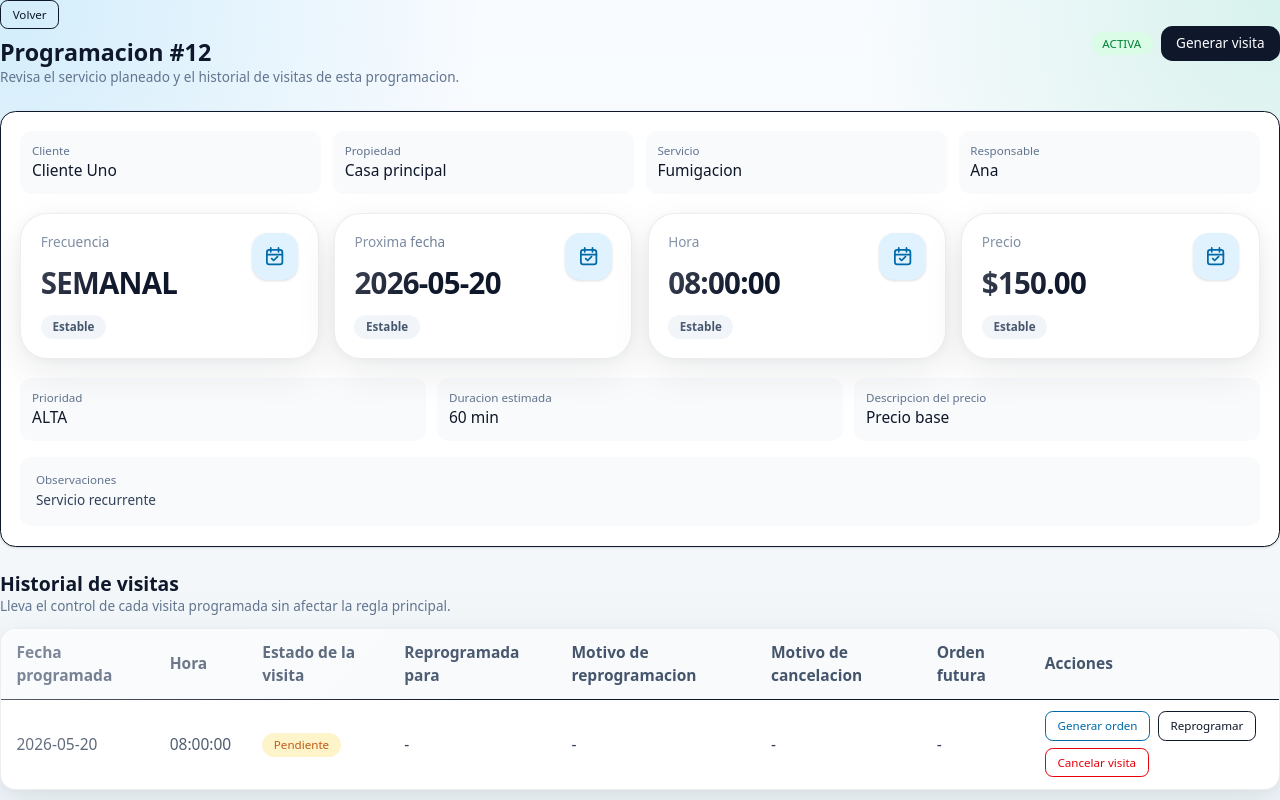
Test: ProgramacionDetallePage › muestra validación si se intenta cancelar sin motivo
Expected: the text "Cliente Uno" is shown, [32,159,117,181]
Click the button "Cancelar visita" at [1097, 763], box [1045,748,1149,777]
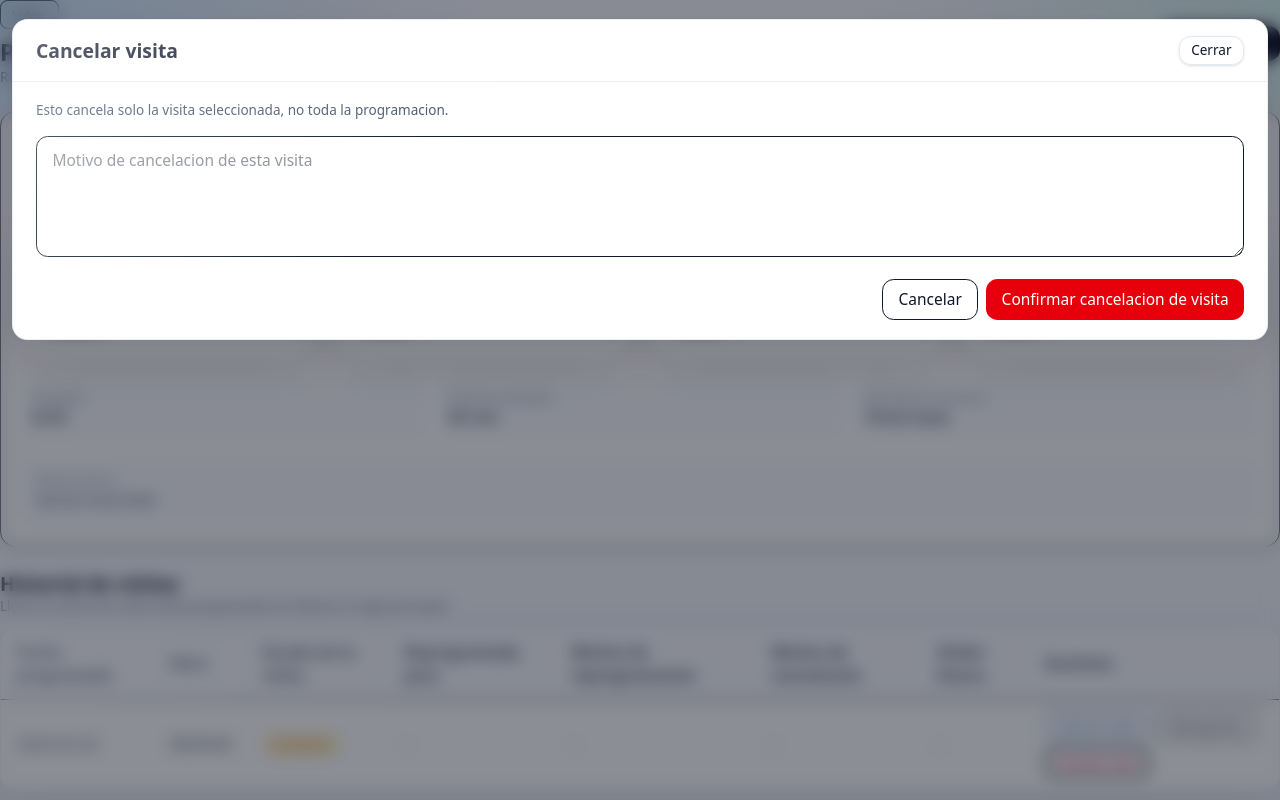
Click the button "Confirmar cancelacion de visita" at [1115, 299], box [986,279,1244,320]
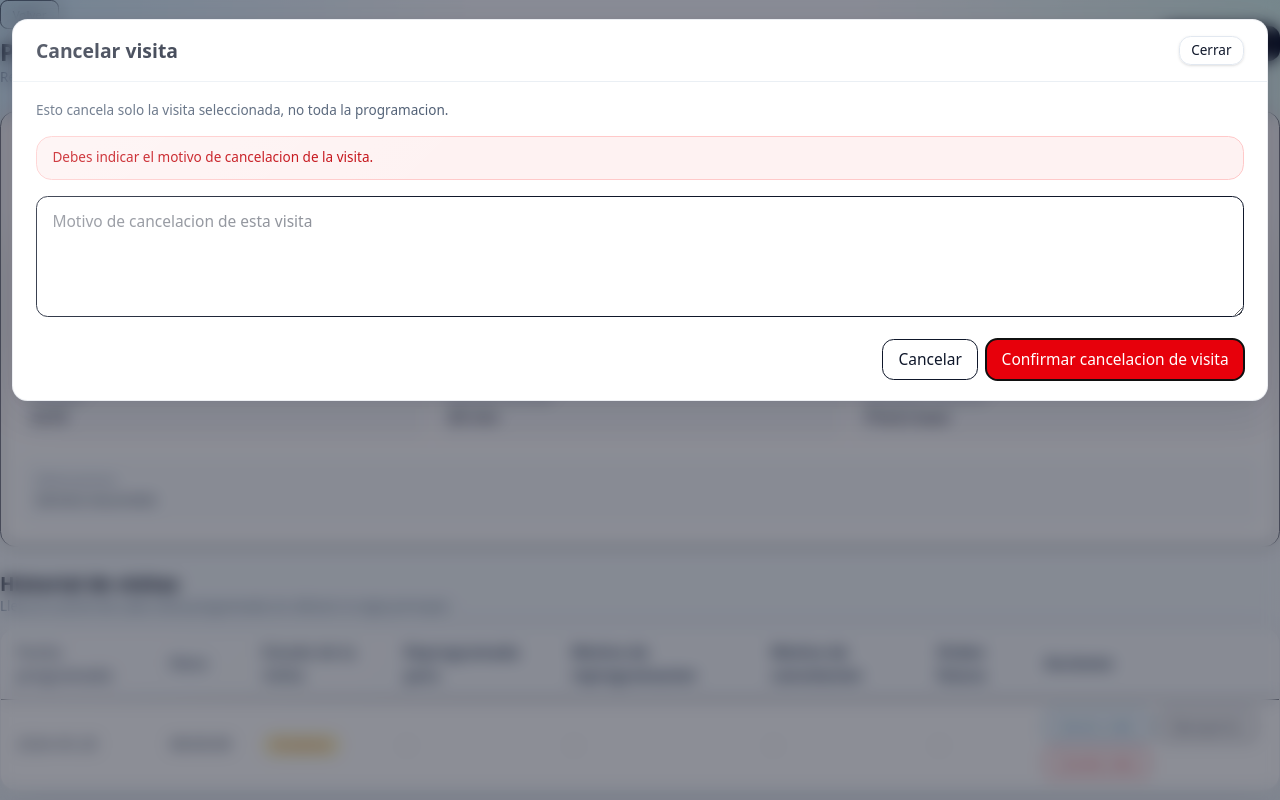
Expected: the text "Debes indicar el motivo de cancelacion de la visita." is shown, [36,136,1244,180]
